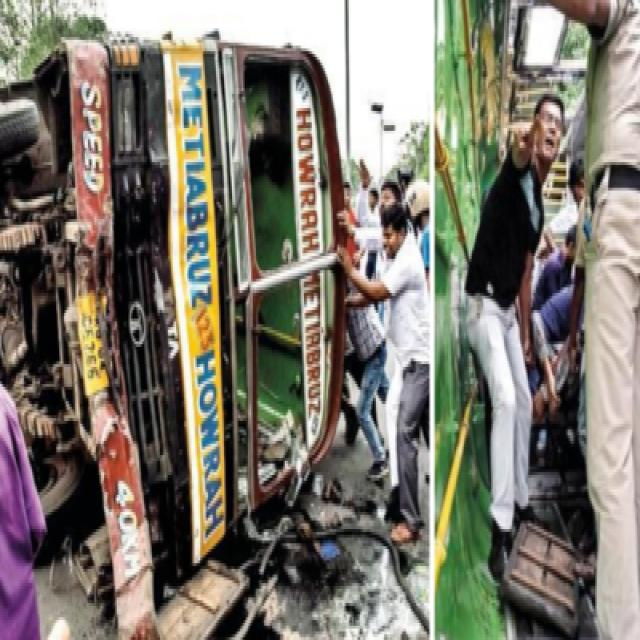accident: (0, 31, 352, 629)
